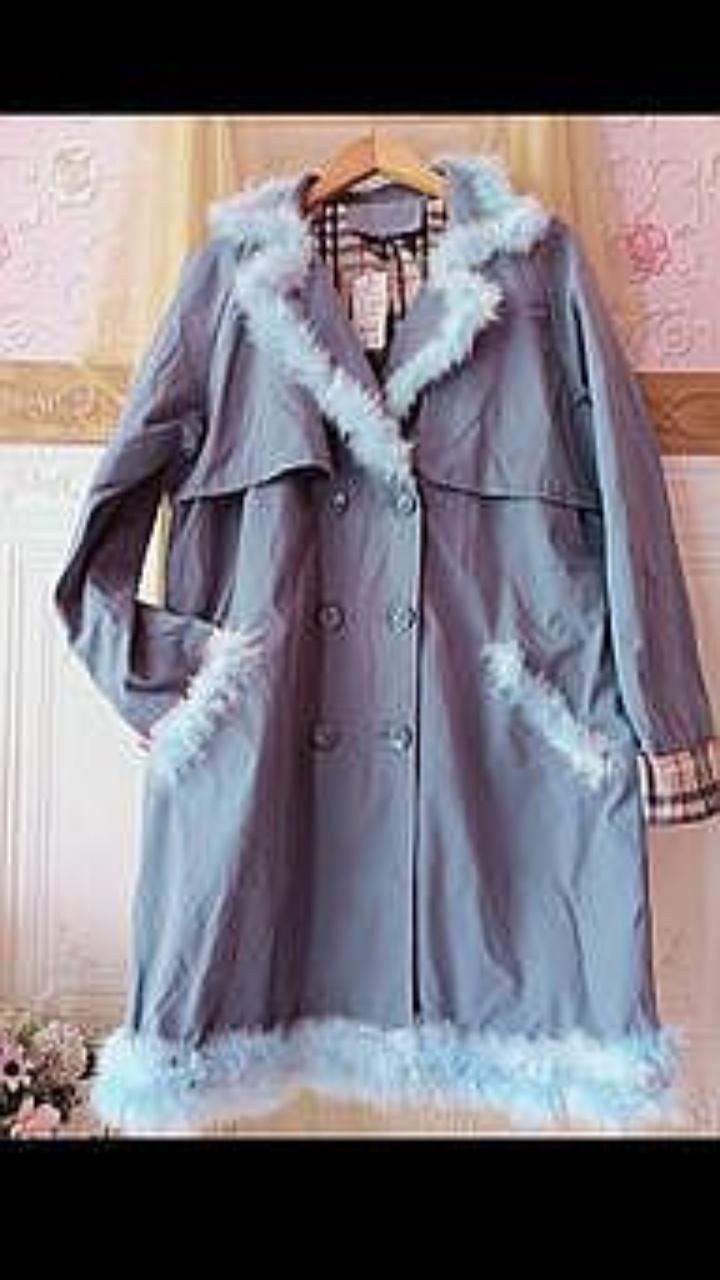Coat: (56, 157, 719, 1130)
